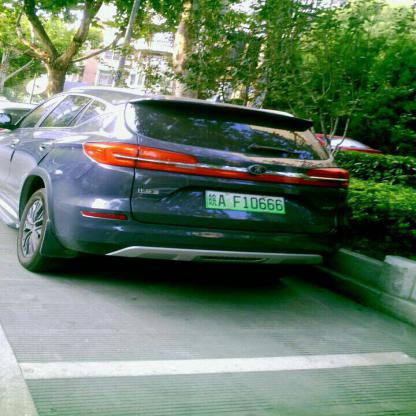lp: (205, 189, 286, 214)
